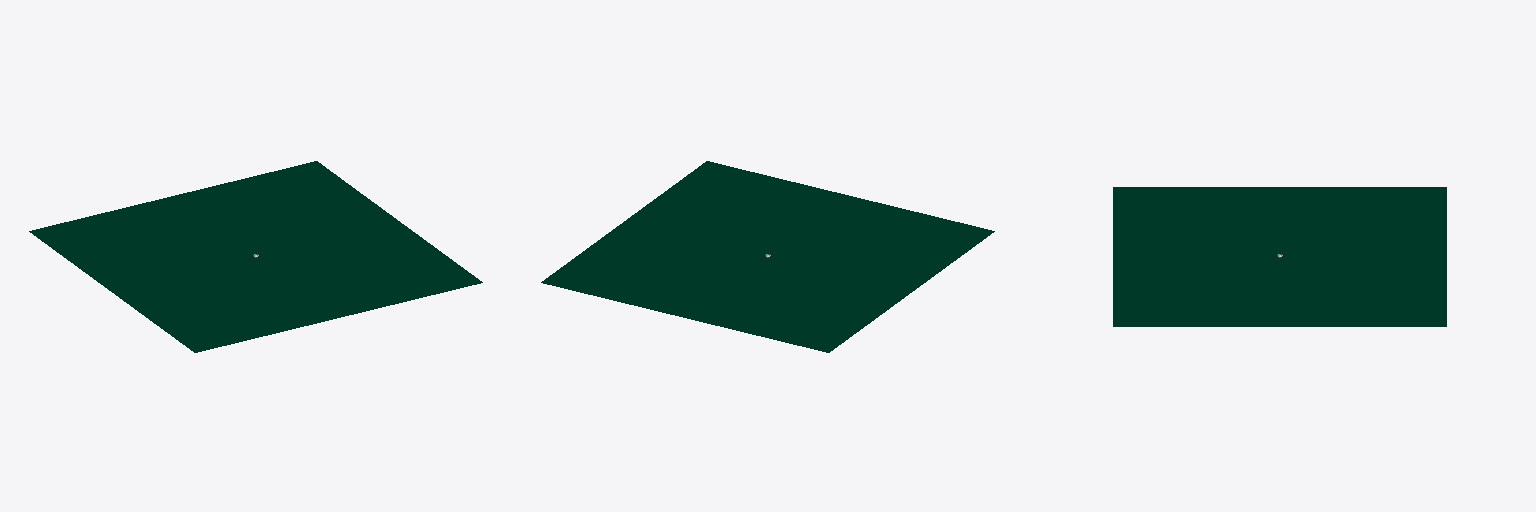
The model's file is 046-growth.obj.
3 renders of one model, left to right at view 1: azimuth 30°, elevation 25°; view 2: azimuth 150°, elevation 25°; view 3: azimuth 270°, elevation 25°, orthographic.
Visible parts, largest first — view 1: Plane; view 2: Plane; view 3: Plane.
Part boxes in pixels (left/top/right/bottom): Plane: left=29, top=161, right=482, bottom=352; Plane: left=541, top=161, right=994, bottom=352; Plane: left=1113, top=187, right=1446, bottom=326.
Bounding box in the file's own units: 182 × 1.64 × 182.